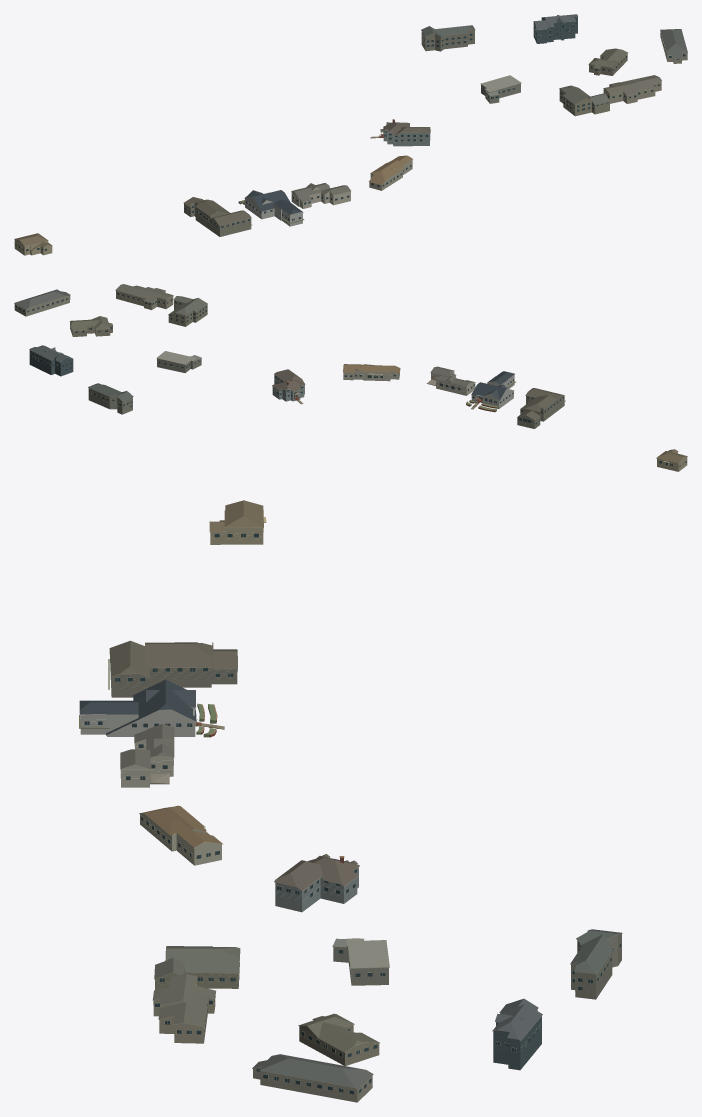
Rendered from site.glb.
3 views of the same model, one above another, from view 1: azimuth 30°, elevation 25°; view 2: azimuth 150°, elevation 25°; view 3: azimuth 270°, elevation 25° (orthographic). The views are drawn at different scales.
Parts seen in each view (by area): view 1: roof-8d4cf396, roof-d709354e, roof-efd79ec7, roof-b2bced50, roof-61b268c3, roof-d25e3df8, roof-636f0355, roof-0b345e8f, roof-3d7a4503, roof-b8804a72, roof-f5434b03, roof-99cda8af (+1 smaller); view 2: roof-8d4cf396, roof-d709354e, roof-b2bced50, roof-d25e3df8, roof-efd79ec7, roof-3d7a4503, roof-636f0355, roof-f5434b03, roof-0b345e8f, roof-61b268c3, roof-99cda8af, roof-b8804a72 (+1 smaller); view 3: roof-8d4cf396, roof-d709354e, roof-f5434b03, roof-0b345e8f, roof-b2bced50, roof-636f0355, roof-3d7a4503, roof-d25e3df8, roof-efd79ec7, roof-99cda8af, roof-61b268c3, roof-b8804a72 (+1 smaller).
Boxes of the visible parts, bbox=[...] form: roof-8d4cf396: bbox=[183, 197, 251, 236]; roof-d709354e: bbox=[239, 190, 303, 226]; roof-efd79ec7: bbox=[421, 25, 475, 51]; roof-b2bced50: bbox=[603, 75, 661, 103]; roof-61b268c3: bbox=[291, 183, 350, 208]; roof-d25e3df8: bbox=[533, 14, 578, 43]; roof-636f0355: bbox=[559, 85, 610, 116]; roof-0b345e8f: bbox=[380, 119, 430, 146]; roof-3d7a4503: bbox=[369, 155, 412, 190]; roof-b8804a72: bbox=[480, 75, 521, 103]; roof-f5434b03: bbox=[660, 29, 687, 63]; roof-99cda8af: bbox=[588, 48, 627, 75]; roof-8d4cf396: bbox=[517, 388, 564, 428]; roof-d709354e: bbox=[466, 371, 514, 412]; roof-b2bced50: bbox=[115, 284, 173, 310]; roof-d25e3df8: bbox=[29, 345, 73, 376]; roof-efd79ec7: bbox=[88, 383, 133, 414]; roof-3d7a4503: bbox=[343, 364, 400, 381]; roof-636f0355: bbox=[168, 296, 207, 326]; roof-f5434b03: bbox=[14, 289, 70, 316]; roof-0b345e8f: bbox=[272, 369, 305, 401]; roof-61b268c3: bbox=[430, 366, 475, 395]; roof-99cda8af: bbox=[69, 316, 112, 336]; roof-b8804a72: bbox=[156, 351, 201, 373]; roof-8d4cf396: bbox=[109, 640, 237, 697]; roof-d709354e: bbox=[79, 679, 217, 737]; roof-f5434b03: bbox=[252, 1054, 373, 1102]; roof-0b345e8f: bbox=[274, 854, 359, 912]; roof-b2bced50: bbox=[152, 974, 215, 1043]; roof-636f0355: bbox=[154, 946, 240, 989]; roof-3d7a4503: bbox=[139, 805, 223, 865]; roof-d25e3df8: bbox=[492, 998, 542, 1070]; roof-efd79ec7: bbox=[570, 929, 622, 999]; roof-99cda8af: bbox=[298, 1013, 379, 1065]; roof-61b268c3: bbox=[120, 724, 174, 787]; roof-b8804a72: bbox=[332, 938, 389, 985].
Size of the model in its own units: 418 by 22.67 by 154.
